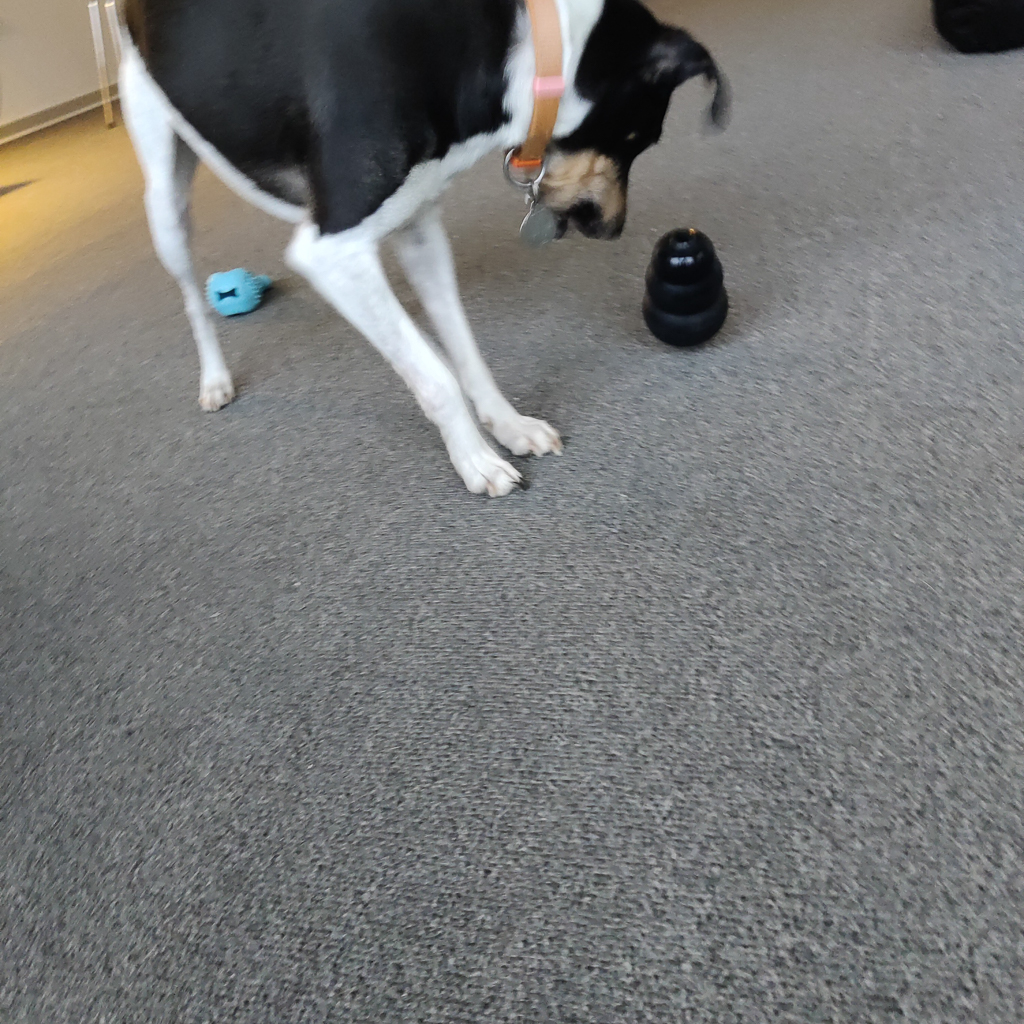Dog: (102, 0, 747, 516)
